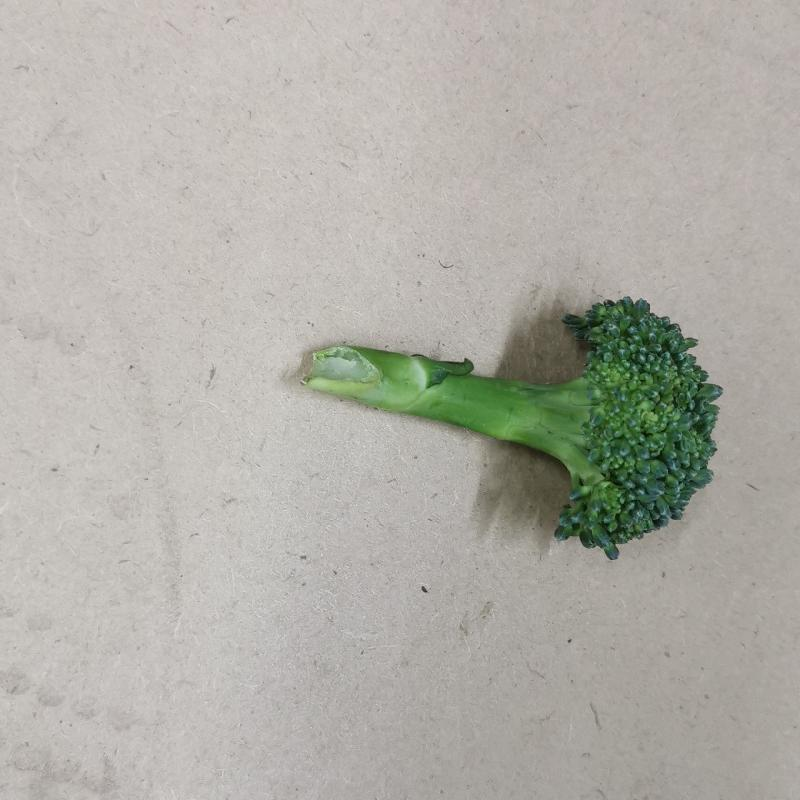broccoli: (300, 283, 722, 566)
